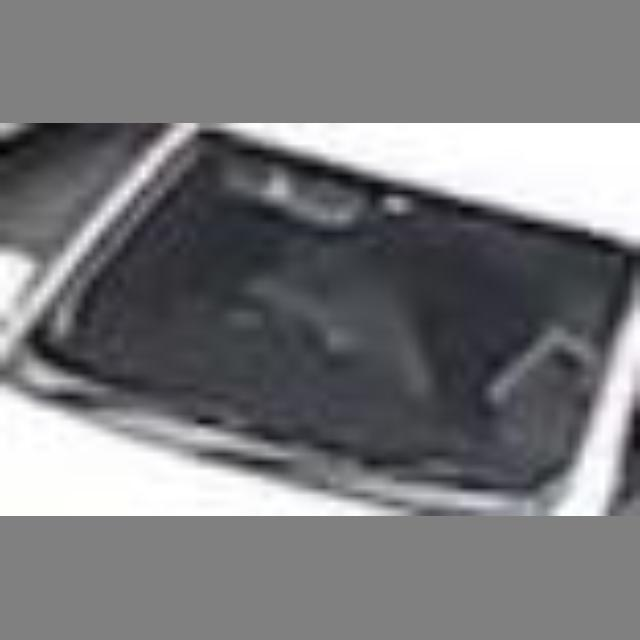tidak-pakai: (213, 221, 443, 418)
